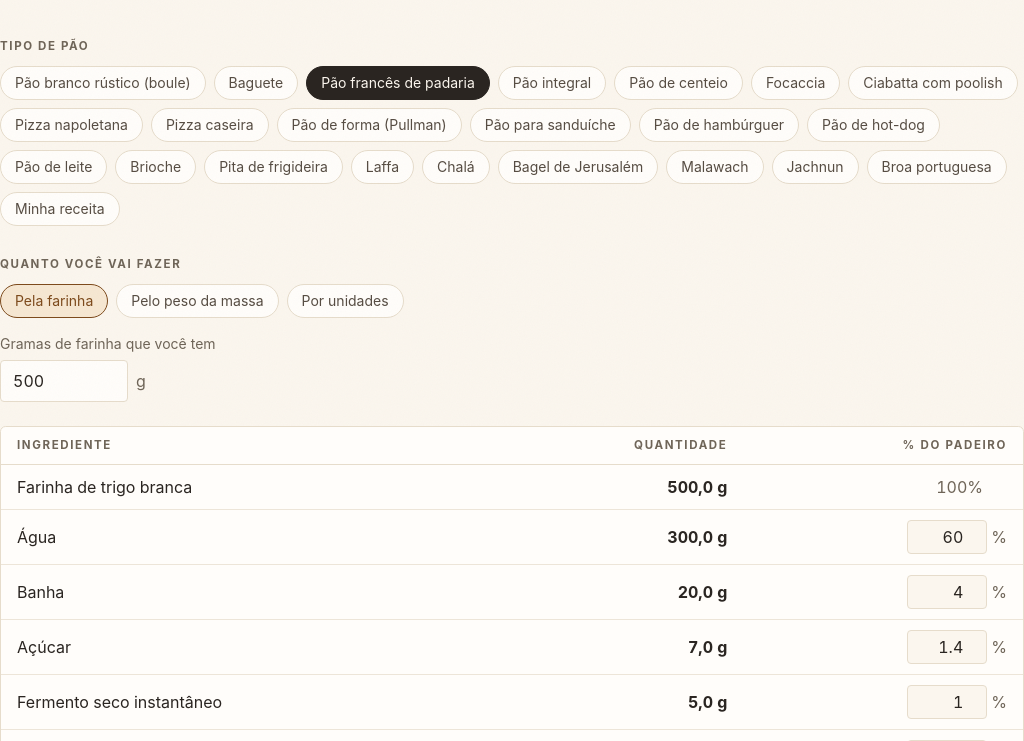
calculadora de pães › recalcula ao trocar de pão
Click the button "Baguete": (256, 83) [214,66,298,100]
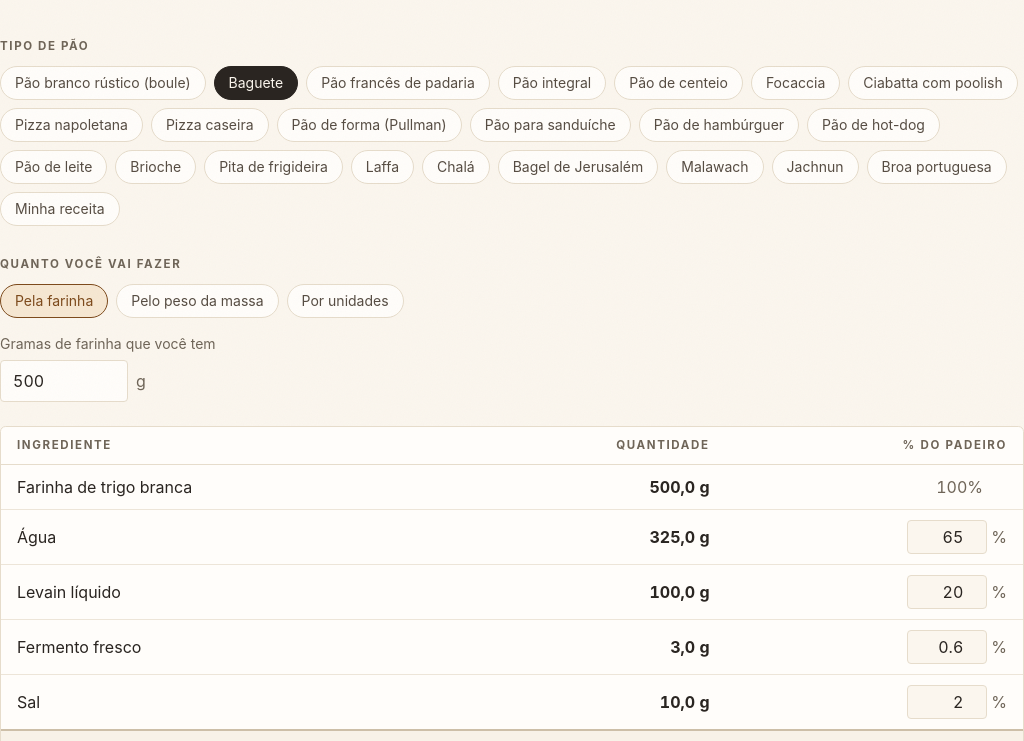
Expected: the text "325,0 g" is shown, [452,510,726,565]
Expected: the text "100,0 g" is shown, [452,565,726,620]
